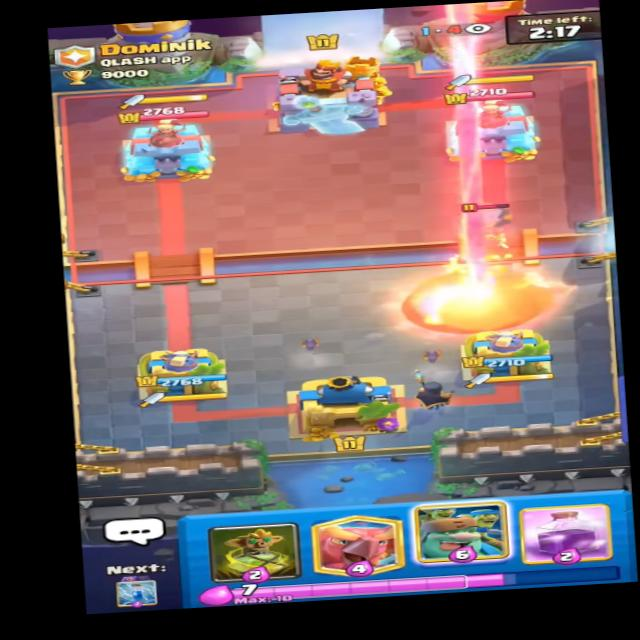void: (399, 267, 548, 343)
wizard: (454, 210, 507, 255)
